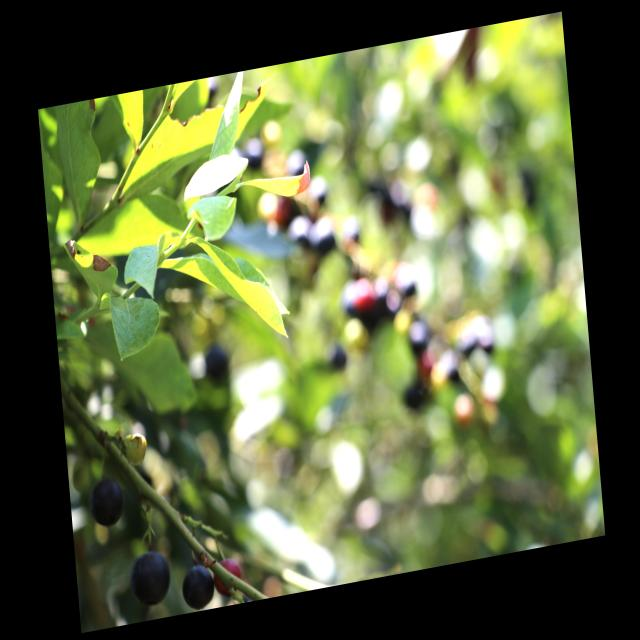blueberry: (130, 546, 173, 607), (86, 473, 128, 534), (178, 562, 216, 614)
blueberry-halfripe: (212, 553, 244, 595)
blueberry-unripe: (121, 428, 149, 468)
